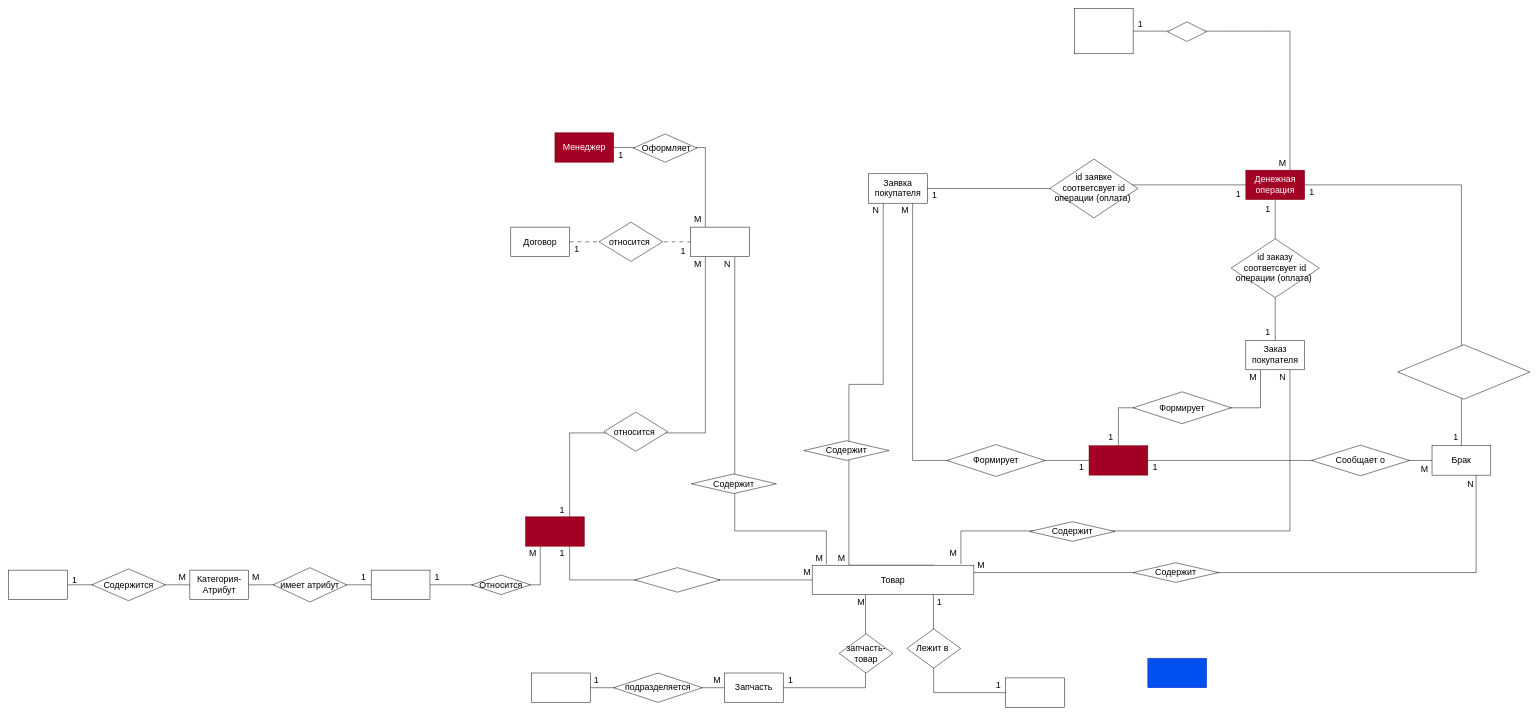
Some shapes in this 1539 by 716 pixel diagram are drawn without their labels. Each missing label, with the centre of its shape:
id браку соответсвует id операции (возврат): (x=1463, y=371)
Атрибут: (x=37, y=585)
Вид запчасти: (x=560, y=687)
Заказ магазина (поставка): (x=719, y=242)
Категория: (x=400, y=585)
Накладные расходы: (x=1177, y=673)
Покупатель: (x=1118, y=460)
Поставляется от: (x=677, y=579)
Поставщик: (x=554, y=531)
Характер операции (заявка, заказ, брак): (x=1103, y=31)
Ячейка: (x=1035, y=692)
